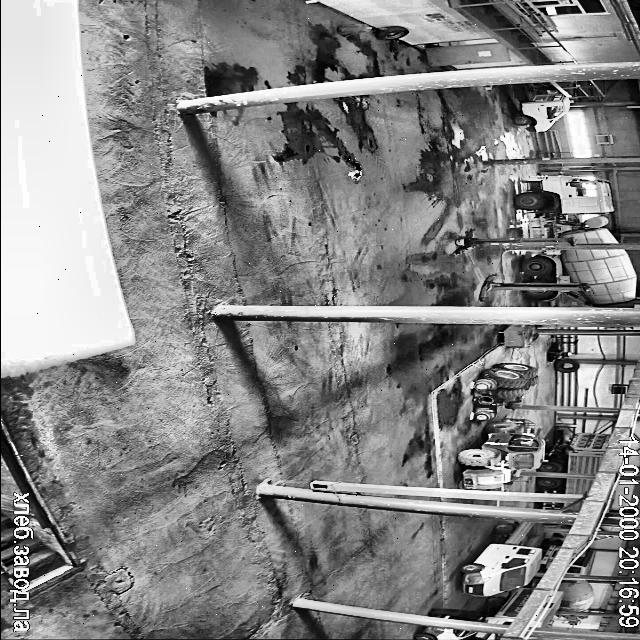class4: (428, 608, 485, 620)
class6: (459, 418, 544, 489), (475, 362, 537, 420)
class7: (516, 176, 616, 244), (523, 246, 636, 306), (460, 521, 541, 596), (540, 433, 610, 473), (514, 92, 570, 132), (486, 588, 532, 623), (413, 626, 498, 640), (557, 580, 594, 610), (537, 476, 592, 494), (538, 592, 562, 627), (541, 536, 563, 568), (567, 549, 595, 574), (564, 616, 587, 623), (543, 500, 563, 508), (572, 505, 578, 510), (442, 616, 452, 618)
truck: (455, 229, 575, 253), (479, 275, 588, 300)
